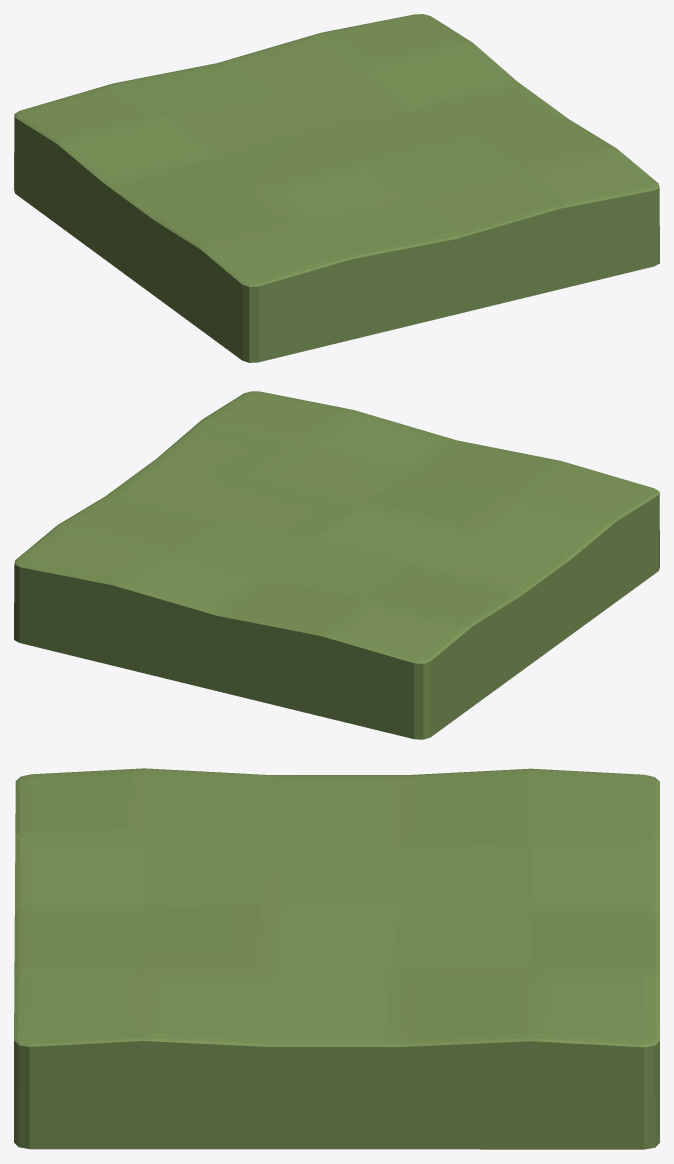
Rendered from env-ground-tile2.fbx.
3 views of the same model, one above another, from view 1: azimuth 30°, elevation 25°; view 2: azimuth 150°, elevation 25°; view 3: azimuth 270°, elevation 25° (orthographic). The views are drawn at different scales.
Visible parts, largest first — view 1: grass.181; view 2: grass.181; view 3: grass.181.
Part boxes in pixels (x1,y1,x2,y2): grass.181: (14, 14, 659, 362); grass.181: (14, 391, 659, 739); grass.181: (14, 768, 659, 1149).
Bounding box in the file's own units: 602 × 114 × 602.
